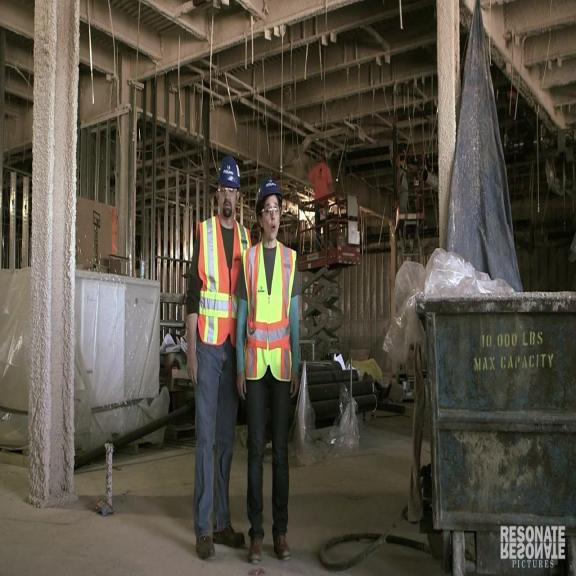safety_vest: (240, 238, 298, 380), (195, 214, 251, 348)
